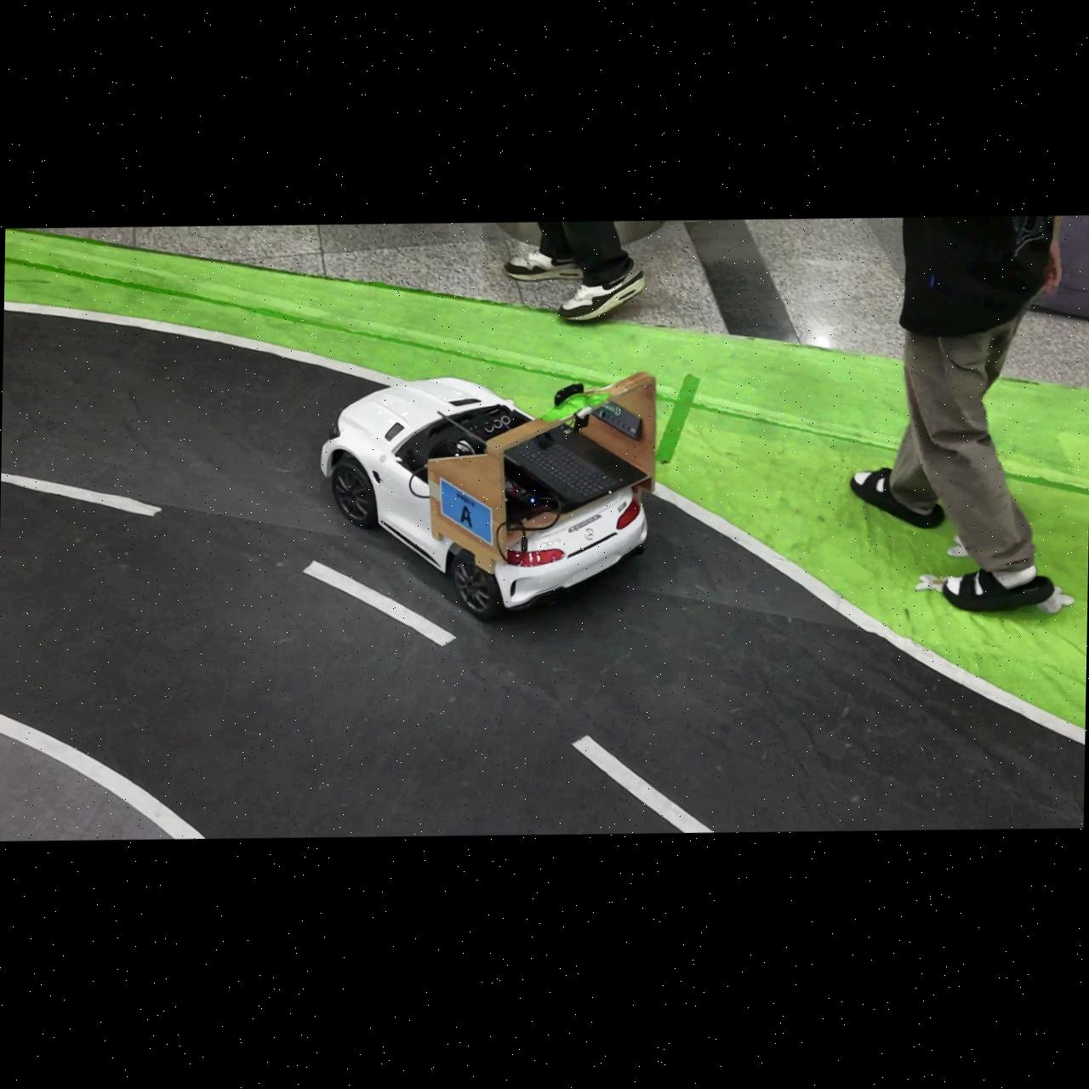broken_line: (572, 736, 713, 832), (303, 561, 455, 645), (1, 474, 162, 516)
